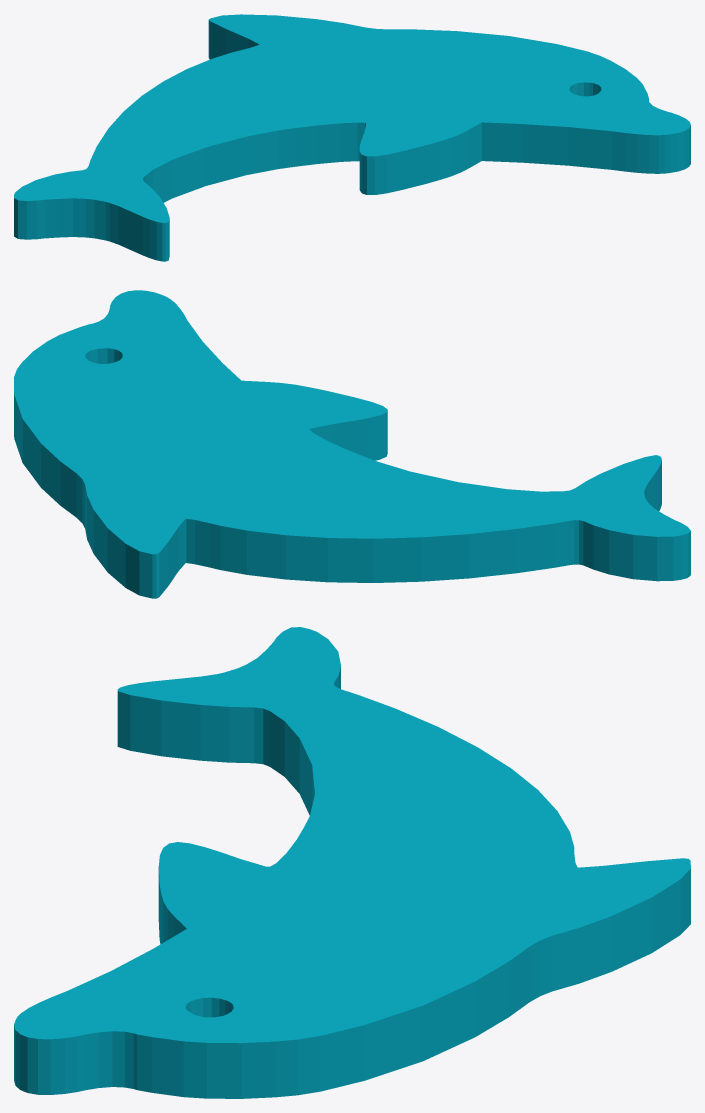
File: dolphin.glb
3 views of the same model, one above another, from view 1: azimuth 30°, elevation 25°; view 2: azimuth 150°, elevation 25°; view 3: azimuth 270°, elevation 25° (orthographic). The views are drawn at different scales.
Visible parts, largest first — view 1: Mesh_Mesh_head_geo.001_lambert2SG.001; view 2: Mesh_Mesh_head_geo.001_lambert2SG.001; view 3: Mesh_Mesh_head_geo.001_lambert2SG.001.
Boxes of the visible parts, bbox=[...] form: Mesh_Mesh_head_geo.001_lambert2SG.001: bbox=[14, 14, 690, 261]; Mesh_Mesh_head_geo.001_lambert2SG.001: bbox=[14, 290, 690, 598]; Mesh_Mesh_head_geo.001_lambert2SG.001: bbox=[14, 627, 690, 1098].
Bounding box in the file's own units: 16 × 1 × 11.
